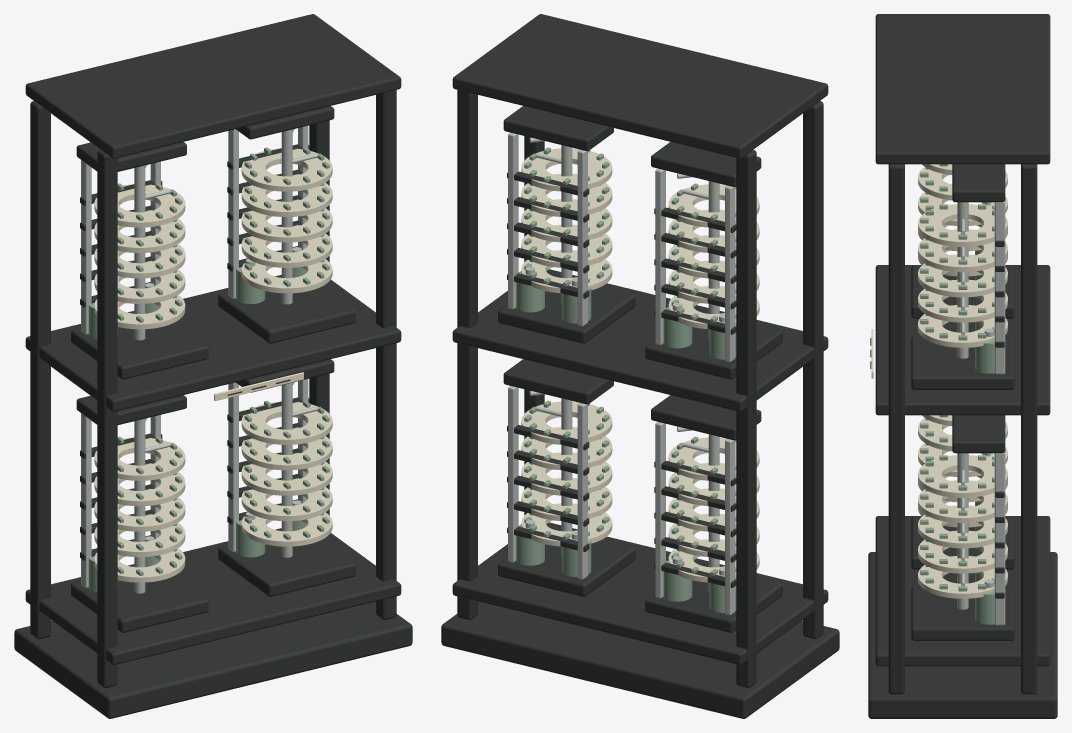
File: abandoned-telephone-exchange-selector-equipment-rack-63a91af2__31998.glb
The picture shows the model from 3 angles, left to right: view 1: azimuth 30°, elevation 25°; view 2: azimuth 150°, elevation 25°; view 3: azimuth 270°, elevation 25°; orthographic projection.
Visible parts, largest first — view 1: selector-equipment-rack; view 2: selector-equipment-rack; view 3: selector-equipment-rack.
Part boxes in pixels (<box>): selector-equipment-rack: <box>14,14,412,718</box>; selector-equipment-rack: <box>441,14,839,718</box>; selector-equipment-rack: <box>868,14,1057,718</box>.
Size of the model in its own units: 1.16 by 2.07 by 0.63.
